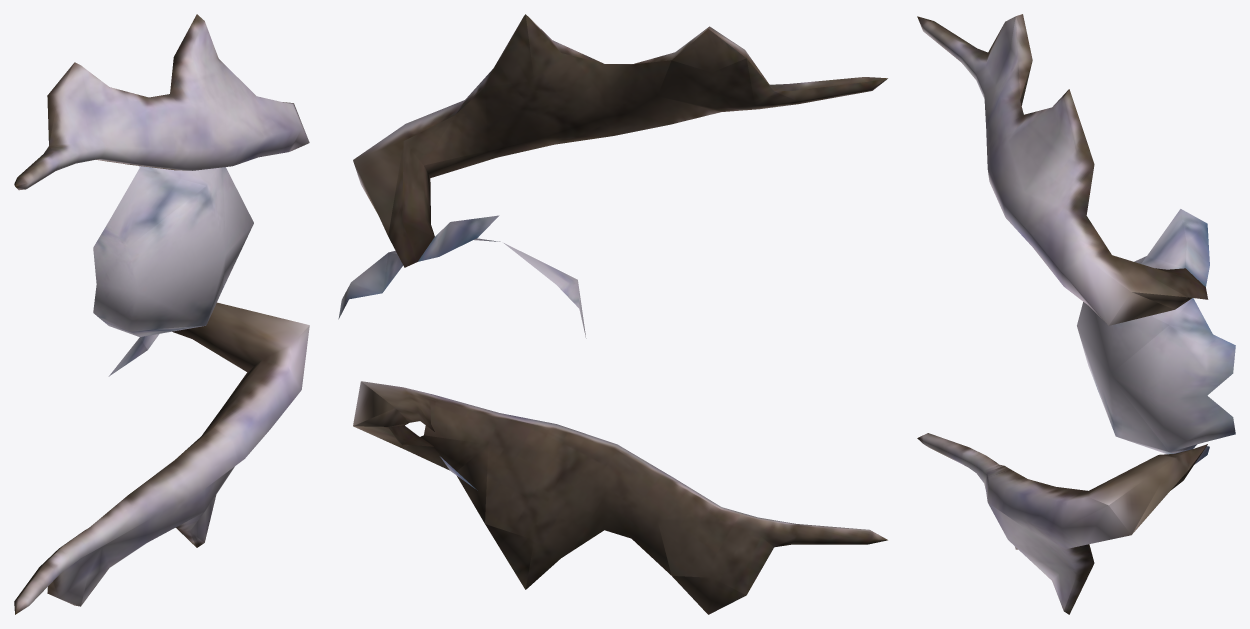
File: veggieHat.glb
3 renders of one model, left to right at view 1: azimuth 30°, elevation 25°; view 2: azimuth 150°, elevation 25°; view 3: azimuth 270°, elevation 25°, orthographic. The views are drawn at different scales.
Visible parts, largest first — view 1: Penguin_veggieHat_tri; view 2: Penguin_veggieHat_tri; view 3: Penguin_veggieHat_tri.
Part boxes in pixels (x1,y1,x2,y2): Penguin_veggieHat_tri: (14, 14, 309, 614); Penguin_veggieHat_tri: (338, 14, 887, 614); Penguin_veggieHat_tri: (917, 14, 1235, 614).
Bounding box in the file's own units: 0.5041 × 0.668 × 0.3604.
1 material, 1 textured.
